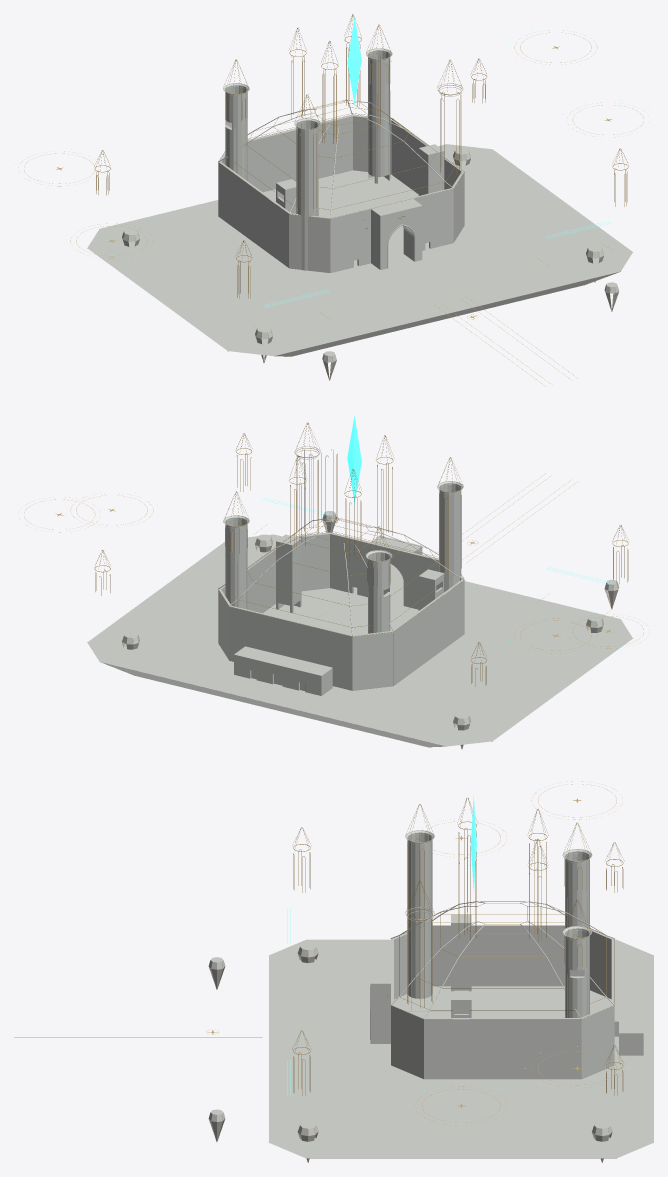
The model's file is Spaceport-02.glb.
The picture shows the model from 3 angles, top to bottom: view 1: azimuth 30°, elevation 25°; view 2: azimuth 150°, elevation 25°; view 3: azimuth 270°, elevation 25°; orthographic projection. The views are drawn at different scales.
Parts seen in each view (by area): view 1: NSP01.Native.2.1.Ivory, NSP01.Native.2.0.Gold, NSP01.Native.2.3.Crystal, NSP01.Native.2.2.Marking; view 2: NSP01.Native.2.1.Ivory, NSP01.Native.2.0.Gold, NSP01.Native.2.3.Crystal, NSP01.Native.2.2.Marking; view 3: NSP01.Native.2.1.Ivory, NSP01.Native.2.0.Gold, NSP01.Native.2.2.Marking, NSP01.Native.2.3.Crystal.
Part boxes in pixels (bbox=[...]): NSP01.Native.2.1.Ivory: bbox=[87, 48, 632, 379]; NSP01.Native.2.0.Gold: bbox=[94, 14, 628, 380]; NSP01.Native.2.3.Crystal: bbox=[14, 18, 653, 307]; NSP01.Native.2.2.Marking: bbox=[18, 30, 644, 386]; NSP01.Native.2.1.Ivory: bbox=[87, 446, 632, 748]; NSP01.Native.2.0.Gold: bbox=[94, 422, 628, 748]; NSP01.Native.2.3.Crystal: bbox=[14, 416, 653, 654]; NSP01.Native.2.2.Marking: bbox=[18, 473, 647, 653]; NSP01.Native.2.1.Ivory: bbox=[208, 830, 653, 1162]; NSP01.Native.2.0.Gold: bbox=[209, 797, 624, 1162]; NSP01.Native.2.2.Marking: bbox=[14, 781, 622, 1125]; NSP01.Native.2.3.Crystal: bbox=[287, 778, 629, 1127].
Bounding box in the file's own units: 713 × 308 × 618.
